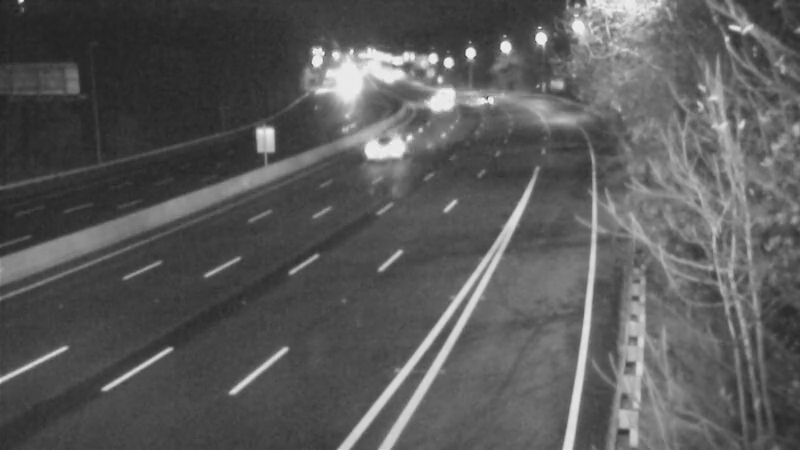vehicle: (341, 112, 421, 192), (419, 66, 469, 116), (456, 71, 506, 121), (415, 80, 465, 130)
